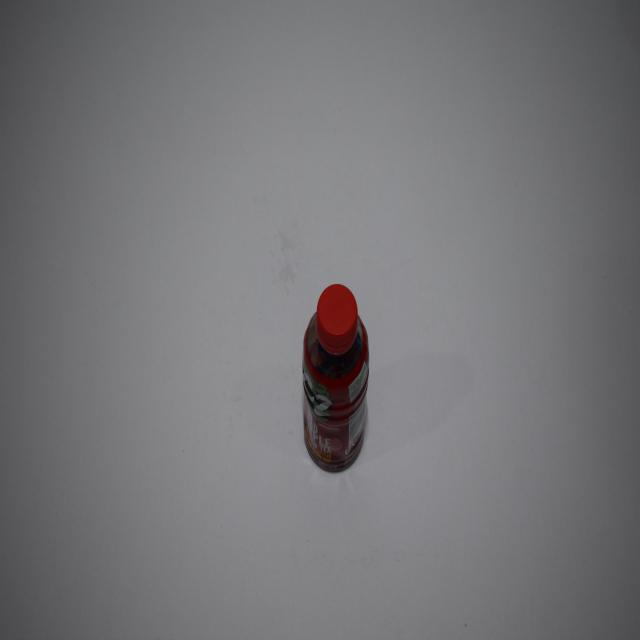bottle: (291, 268, 386, 482)
